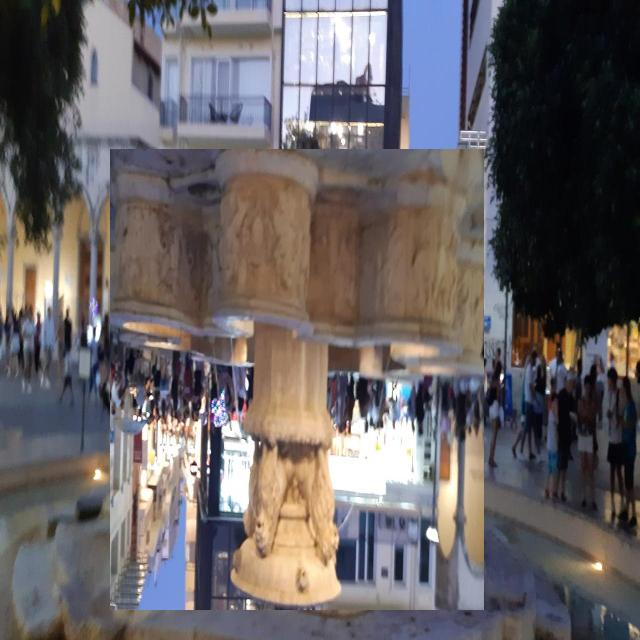Liontaria: (111, 150, 485, 611)
